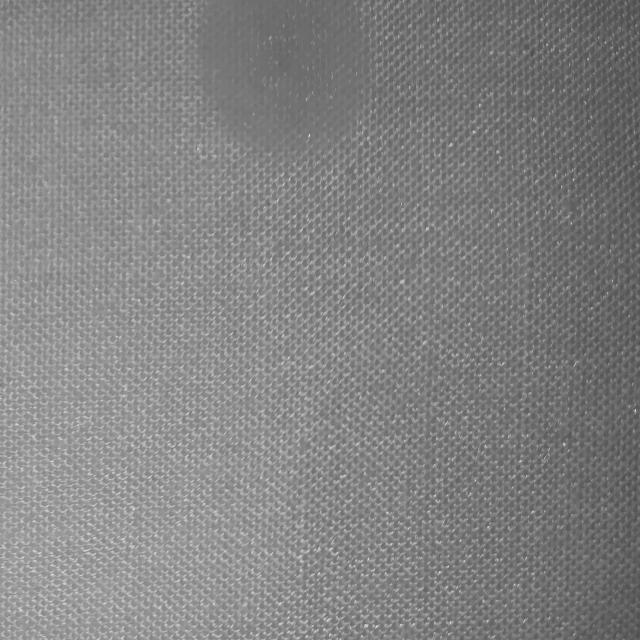Stain: (198, 0, 368, 151)
